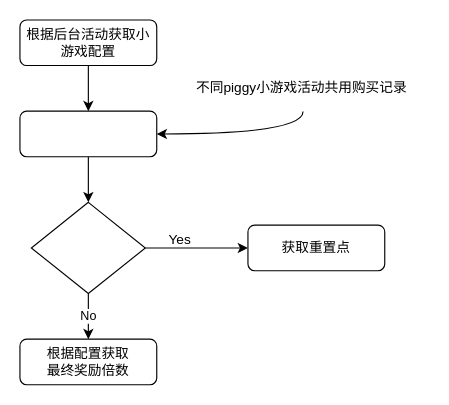
The diagram is 449 pixels wide and 405 high, and some of its shapes have lost their labels. Each missing label, with the box of its shape:
是否超过 配置上限: (30, 201, 145, 294)
获取 [配置] 天,内购买小游戏次数: (19, 110, 157, 157)
